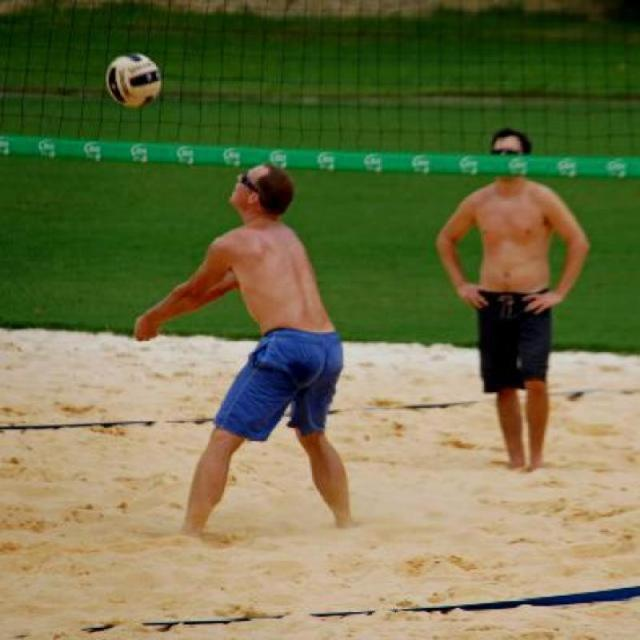volleyball: (106, 51, 162, 108)
